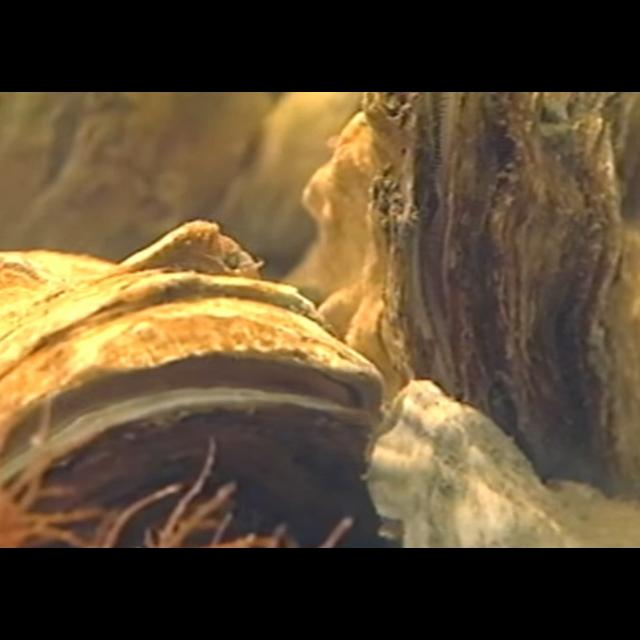Oyster-Open: (362, 92, 640, 500), (1, 270, 383, 508), (360, 378, 640, 548)
